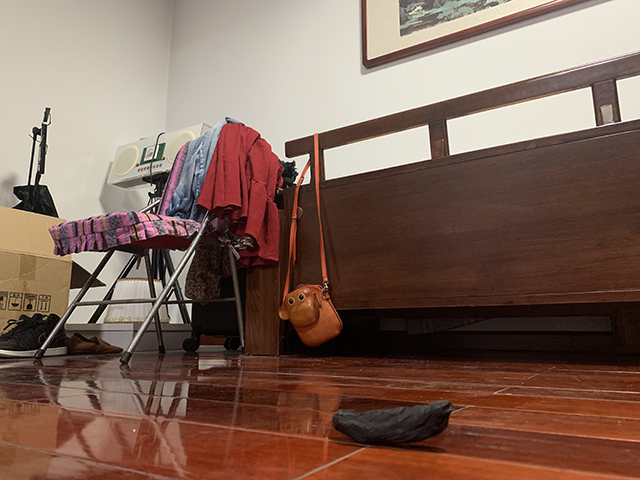bed: (243, 51, 640, 357)
feces: (332, 400, 455, 448)
stool: (32, 115, 284, 367)
